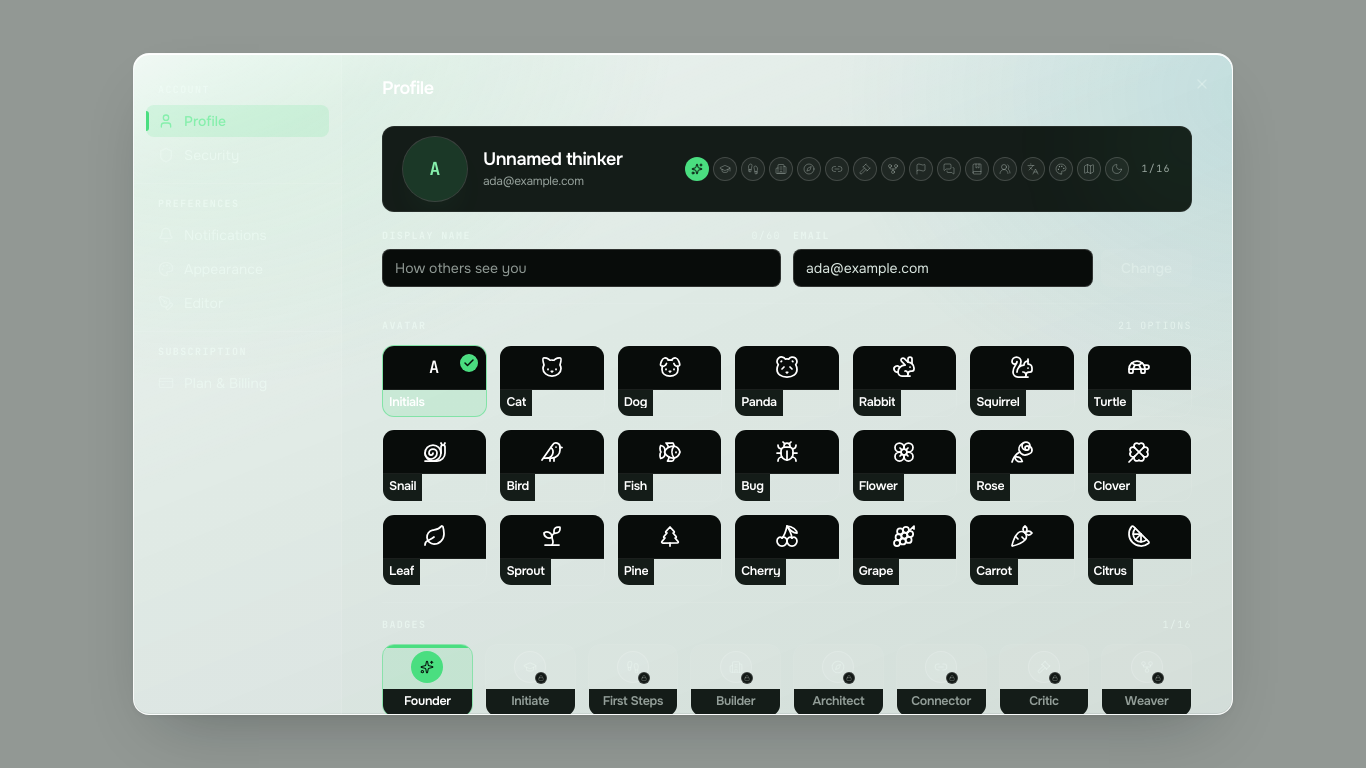
it: Settings › GIVEN the settings modal for a loaded account › WHEN the security section is picked › THEN the password form shows
Click the button "Security".
click(238, 155)  # box [146, 139, 329, 171]
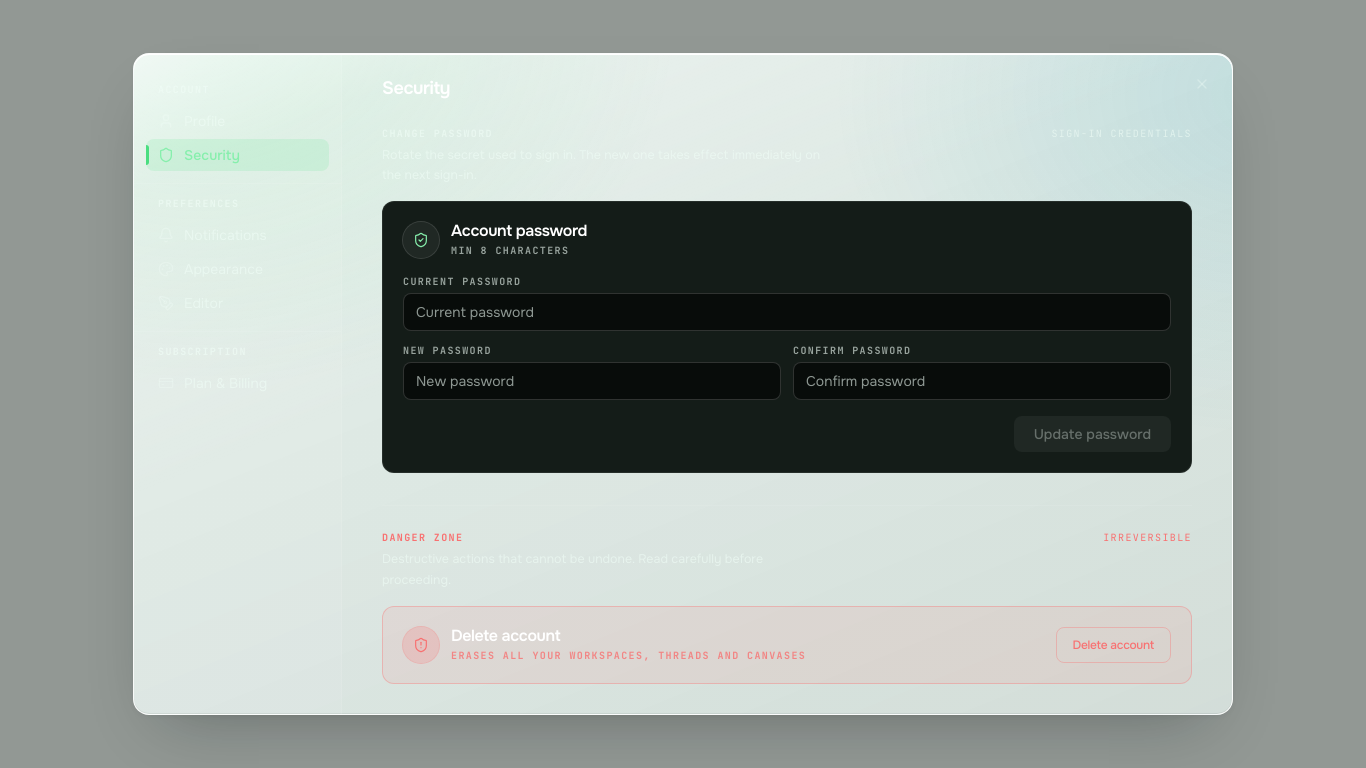
Check: the password field labelled "Current password" is shown, box [403, 293, 1171, 331]
